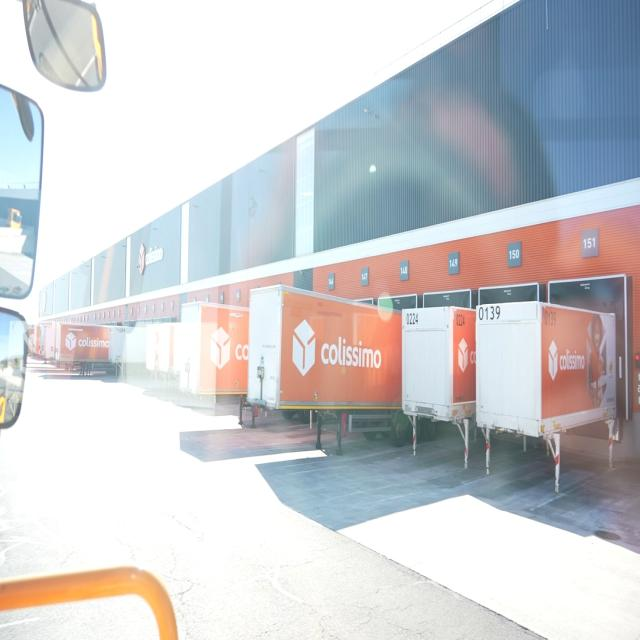Code: (474, 302, 502, 324), (540, 303, 562, 331), (403, 308, 420, 328), (454, 309, 468, 330)
